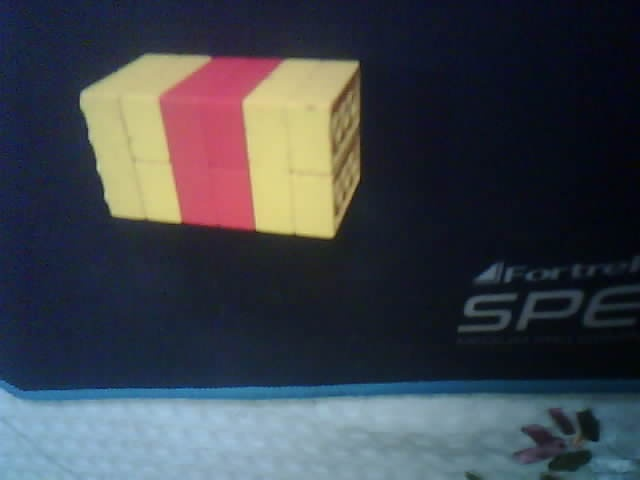lego: (77, 51, 363, 241)
